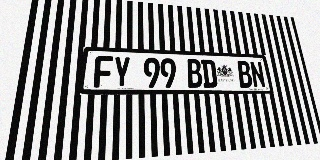9: (144, 57, 161, 88), (160, 58, 177, 88)
B: (186, 59, 203, 88), (236, 61, 253, 88)
D: (201, 59, 218, 88)
F: (93, 56, 113, 88)
N: (249, 61, 266, 88)
Y: (113, 56, 131, 88)
